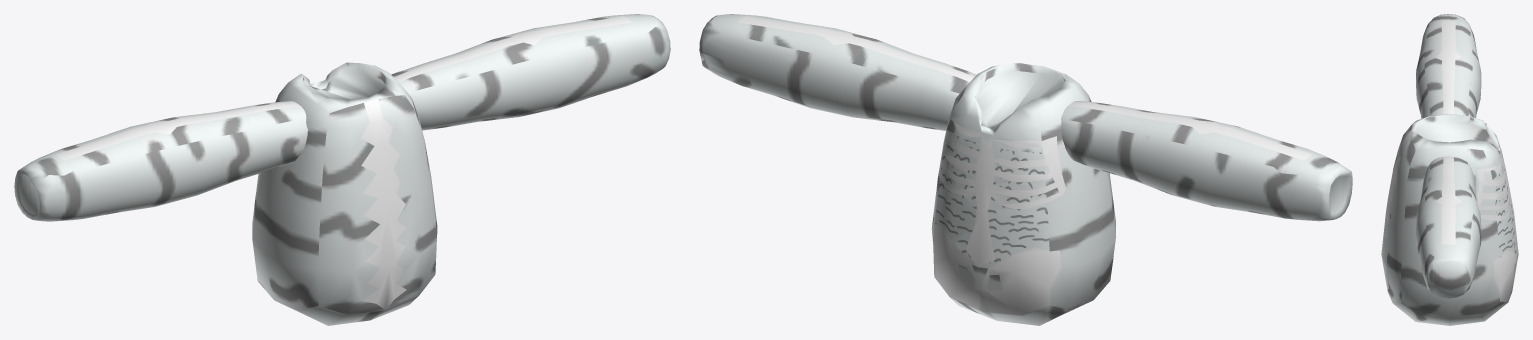
Rendered from item-skeleton-shirt.glb.
3 views of the same model, side by side, from view 1: azimuth 30°, elevation 25°; view 2: azimuth 150°, elevation 25°; view 3: azimuth 270°, elevation 25° (orthographic). The views are drawn at different scales.
Size of the model in its own units: 0.2679 by 0.0922 by 0.0623.
Materials: 2 (1 with a texture image).
